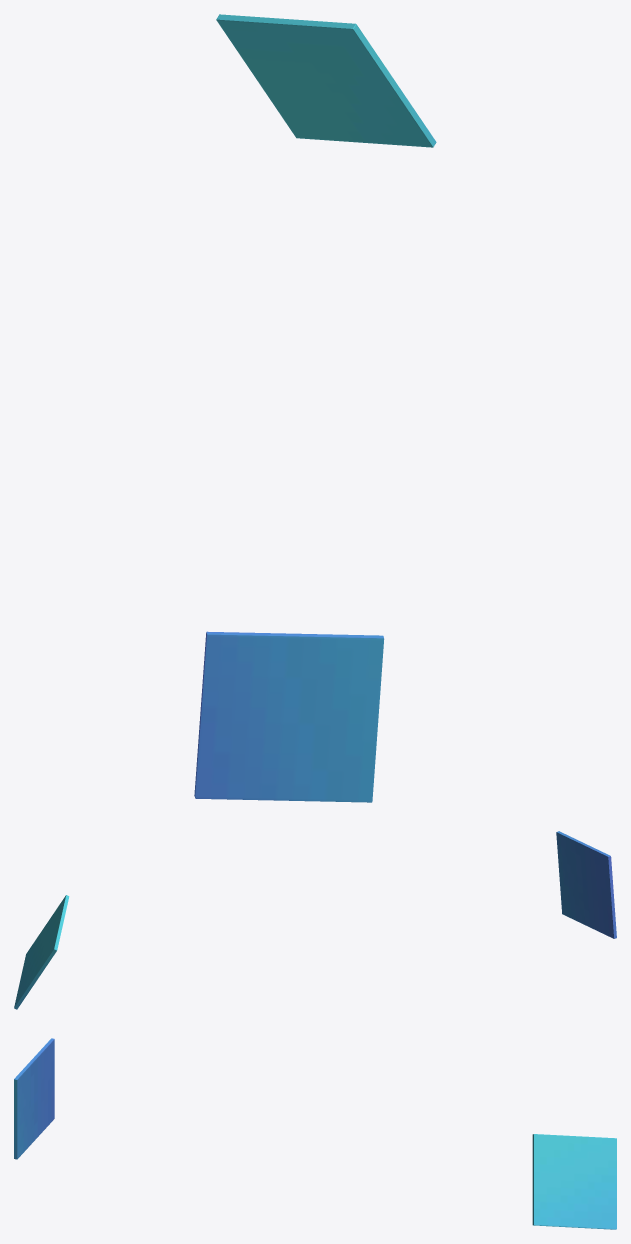
Rendered from Prova vetri 2 telecamere.glb.
3 views of the same model, one above another, from view 1: azimuth 30°, elevation 25°; view 2: azimuth 150°, elevation 25°; view 3: azimuth 270°, elevation 25° (orthographic). The views are drawn at different scales.
Parts seen in each view (by area): view 1: Cube, Cube.001; view 2: Cube, Cube.001; view 3: Cube.001, Cube.
Part boxes in pixels (left/top/right/bottom): Cube: left=194, top=631, right=384, bottom=802; Cube.001: left=216, top=14, right=436, bottom=147; Cube: left=556, top=831, right=616, bottom=938; Cube.001: left=14, top=895, right=69, bottom=1009; Cube.001: left=532, top=1134, right=616, bottom=1229; Cube: left=14, top=1038, right=54, bottom=1159.
Bounding box in the file's own units: 9.2 × 3.56 × 13.15.
1 material, 1 textured.
